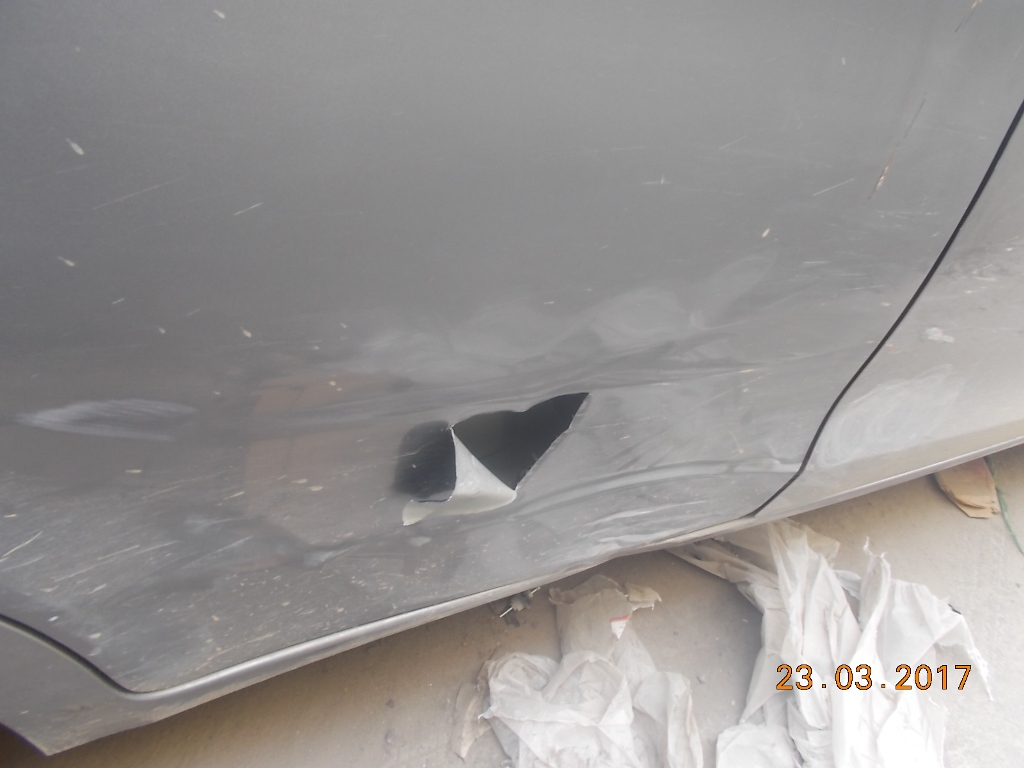Tear: (382, 368, 603, 525)
